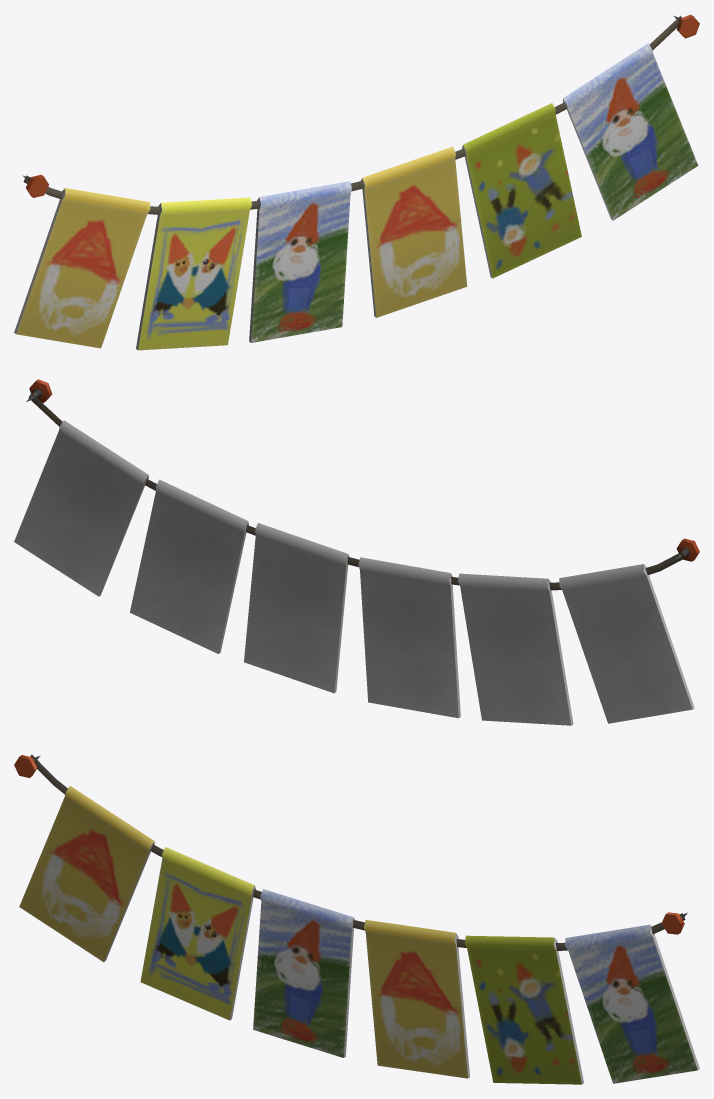
Rendered from gnomos.fbx.
3 views of the same model, one above another, from view 1: azimuth 30°, elevation 25°; view 2: azimuth 150°, elevation 25°; view 3: azimuth 330°, elevation 25° (orthographic).
Visible parts, largest first — view 1: s4studio_mesh_0; view 2: s4studio_mesh_0; view 3: s4studio_mesh_0.
Part boxes in pixels (bbox=[...]): s4studio_mesh_0: bbox=[14, 14, 699, 350]; s4studio_mesh_0: bbox=[14, 379, 699, 725]; s4studio_mesh_0: bbox=[14, 754, 699, 1084].
Bounding box in the file's own units: 179 × 58.54 × 7.48.
1 material, 1 textured.
